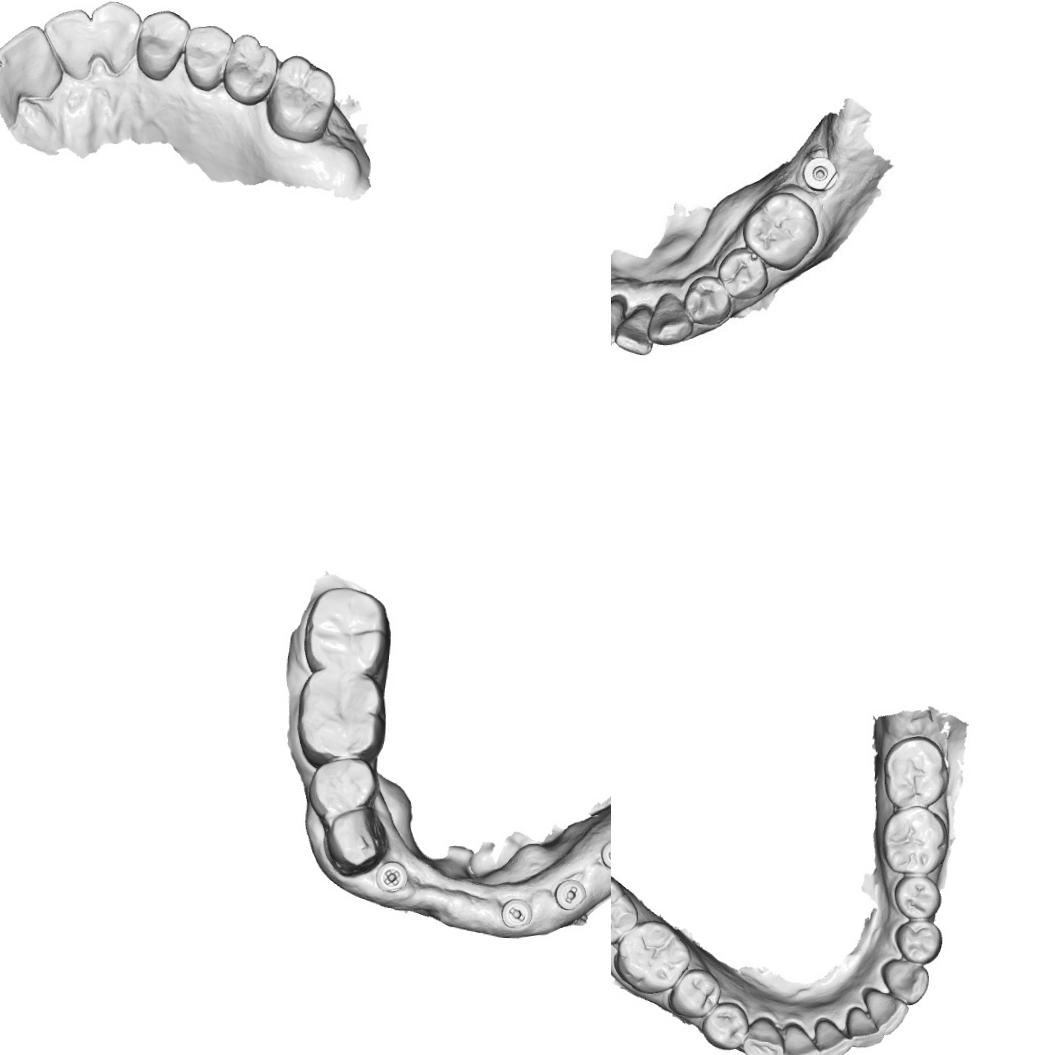canine: (89, 0, 142, 76), (878, 956, 934, 1008), (646, 292, 694, 348), (740, 1013, 787, 1055)
implant: (804, 154, 841, 194)
implant_minus: (499, 896, 535, 931), (552, 878, 588, 912), (599, 838, 611, 871)
implant_plus: (374, 859, 410, 895)
incisor: (38, 5, 100, 78), (0, 22, 62, 94), (858, 984, 909, 1038), (842, 1002, 884, 1052), (614, 309, 653, 357), (811, 1014, 853, 1055), (781, 1020, 823, 1055), (611, 297, 622, 348)
molar: (294, 668, 389, 772), (302, 584, 392, 678), (741, 189, 823, 273), (263, 52, 337, 145), (612, 917, 694, 997), (881, 732, 954, 814), (877, 803, 953, 878), (219, 31, 280, 109), (611, 869, 642, 950)
premolar: (306, 756, 380, 826), (322, 804, 390, 878), (133, 7, 192, 84), (179, 20, 235, 92), (666, 964, 722, 1022), (698, 999, 754, 1052), (890, 870, 947, 922), (892, 912, 944, 969), (686, 277, 736, 323), (719, 251, 766, 299)
